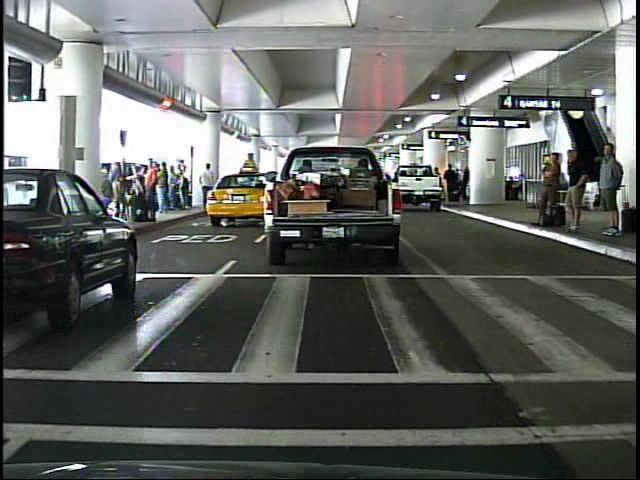person: (596, 139, 629, 244), (563, 143, 591, 238), (535, 145, 565, 232), (142, 157, 161, 225), (198, 161, 217, 214)
